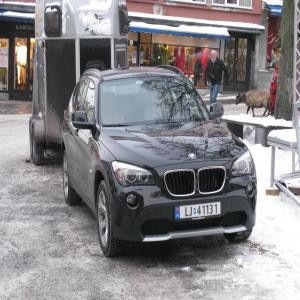Vehicle-registration-plate: (178, 208, 220, 228)
